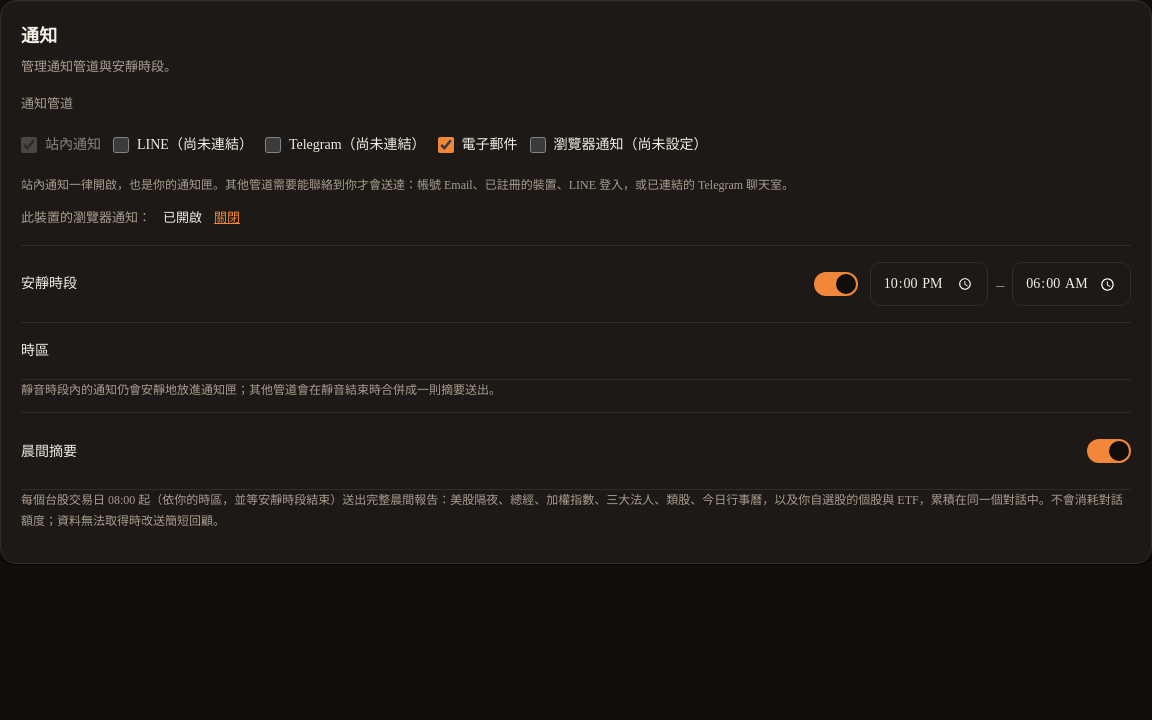
Test: NotificationsPanel actions › disables browser notifications
Click the button "關閉": (227,218) [214, 207, 240, 229]
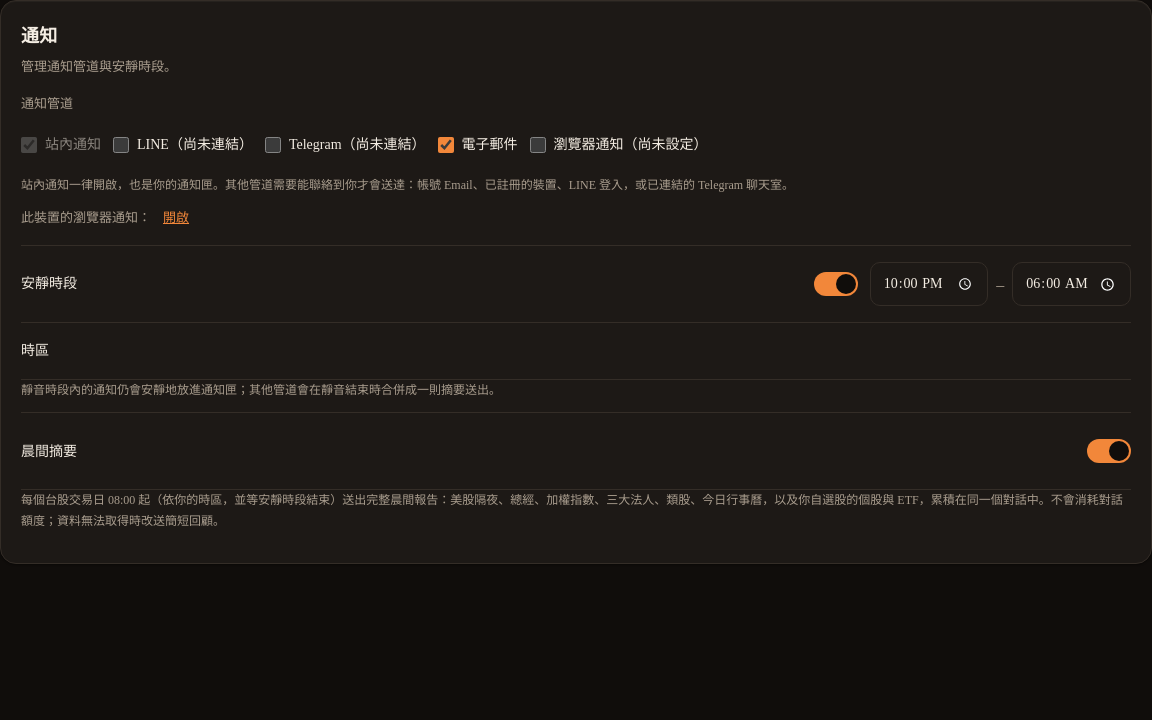
Now the button "開啟" is shown, box [163, 207, 189, 229]
